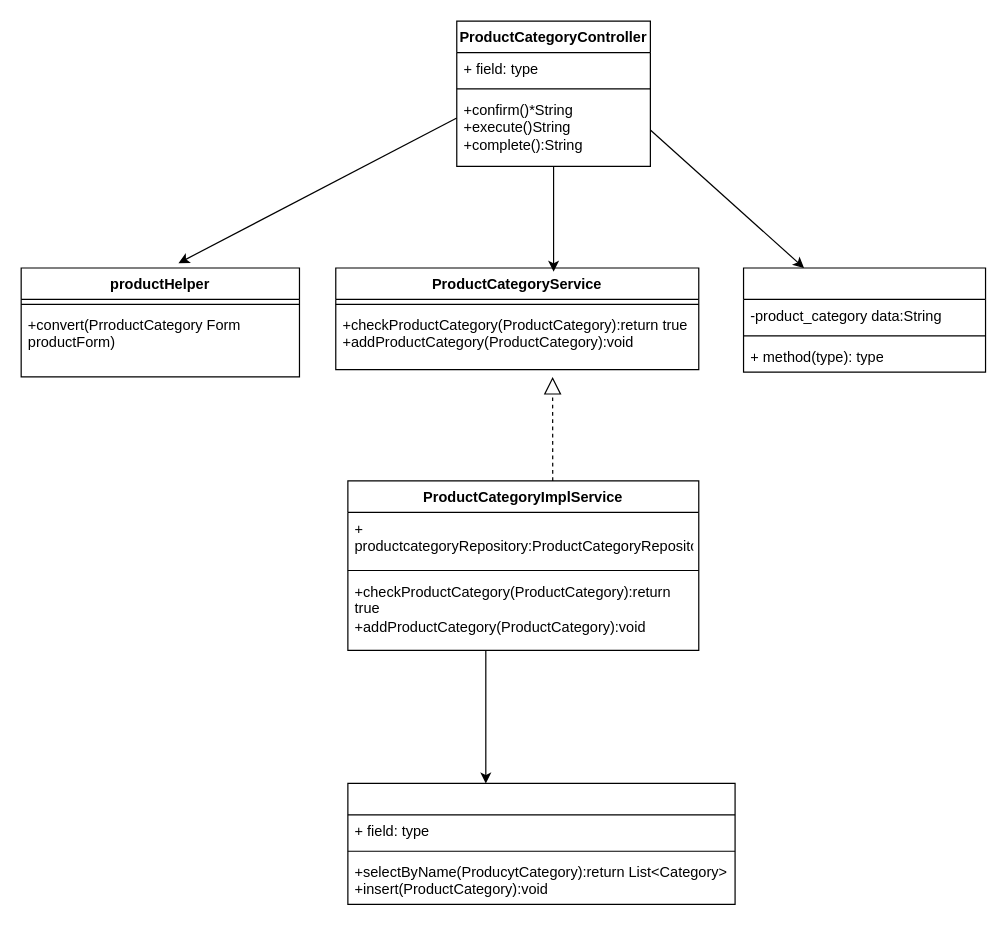
The diagram is 1007 pixels wide and 929 high, and some of its shapes have lost their labels. The box of each missing label's shape, as (x1, y1, x2, y2) in pixels:
ProductCategoryForm: (742, 267, 986, 372)
ProductCategoryRepository: (347, 782, 735, 904)
